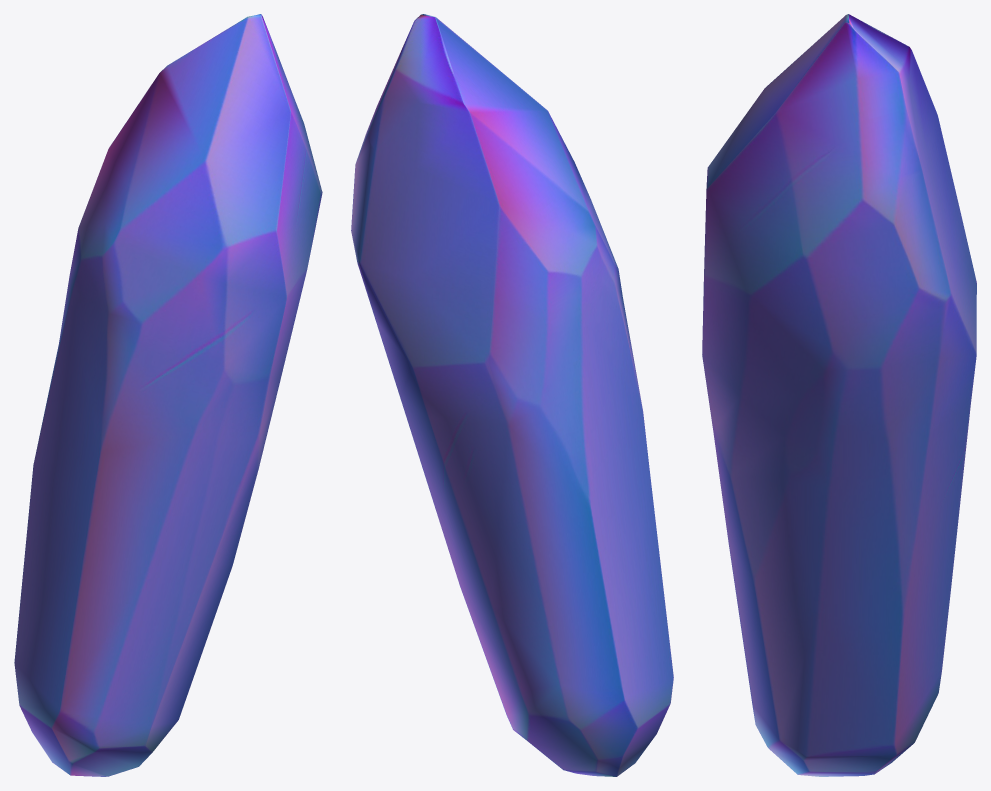
File: MagicStoneSecond3.FBX
3 renders of one model, left to right at view 1: azimuth 30°, elevation 25°; view 2: azimuth 150°, elevation 25°; view 3: azimuth 270°, elevation 25°, orthographic. The views are drawn at different scales.
Parts seen in each view (by area): view 1: Obj3d66-7719707-5-188; view 2: Obj3d66-7719707-5-188; view 3: Obj3d66-7719707-5-188.
Boxes of the visible parts, x1,y1,x2,y2 form: Obj3d66-7719707-5-188: [14, 14, 322, 776]; Obj3d66-7719707-5-188: [351, 14, 673, 776]; Obj3d66-7719707-5-188: [702, 14, 976, 776].
Size of the model in its own units: 701 by 1724 by 505.
Materials: 1 (1 with a texture image).
